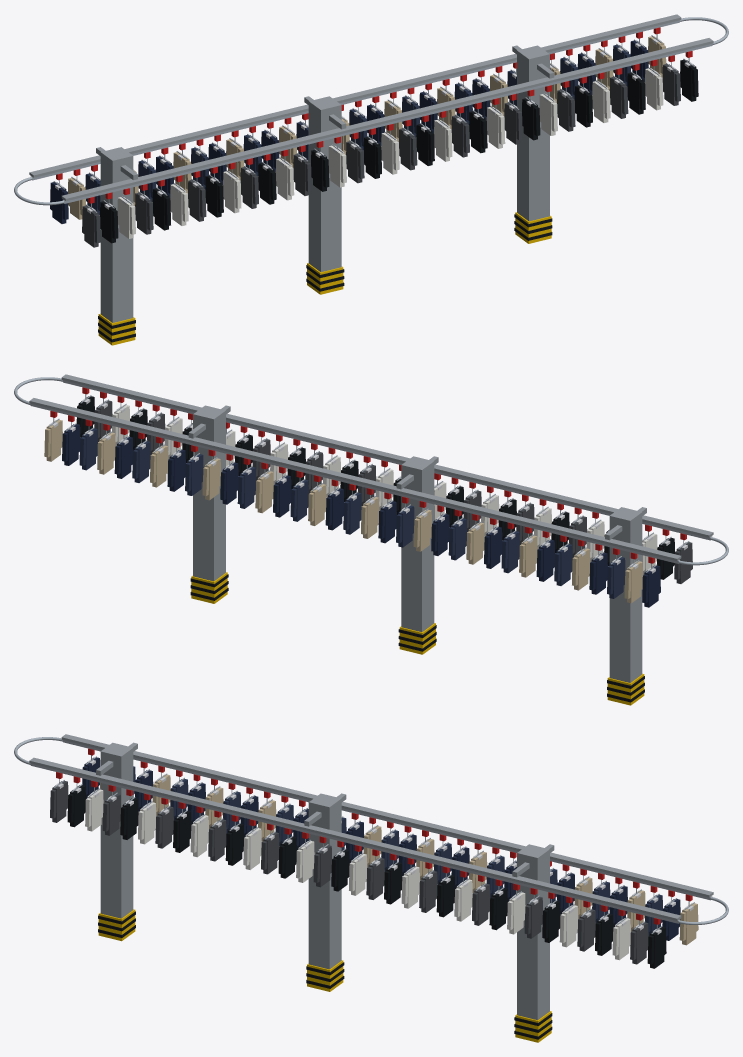
File: aski-tasima-sistemi.glb
3 views of the same model, one above another, from view 1: azimuth 30°, elevation 25°; view 2: azimuth 150°, elevation 25°; view 3: azimuth 330°, elevation 25° (orthographic).
Visible parts, largest first — view 1: Asset; view 2: Asset; view 3: Asset.
Boxes of the visible parts, bbox=[...] form: Asset: bbox=[14, 14, 728, 345]; Asset: bbox=[14, 374, 728, 705]; Asset: bbox=[14, 734, 728, 1042].
Size of the model in its own units: 15.26 by 3.8 by 1.77.
